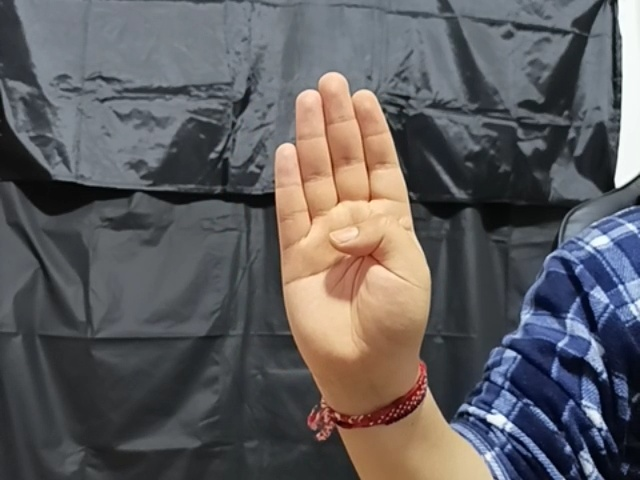B: (263, 67, 441, 376)
